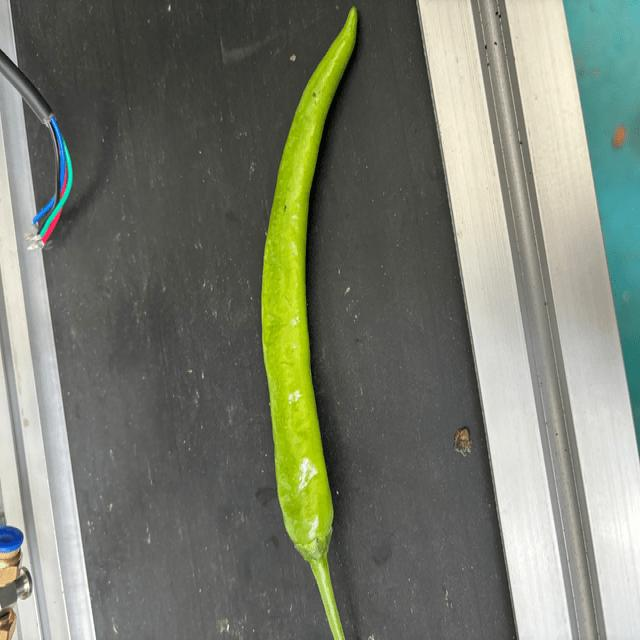chili: (261, 2, 359, 564)
